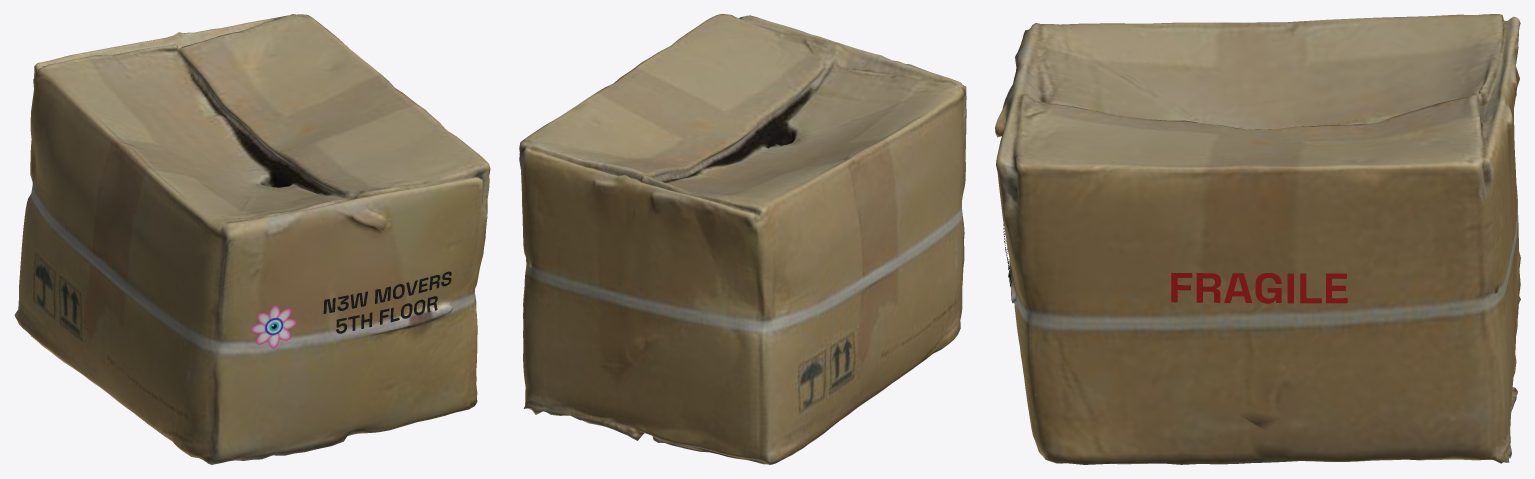
The model's file is nyb_barefoot_box.glb.
3 views of the same model, side by side, from view 1: azimuth 30°, elevation 25°; view 2: azimuth 150°, elevation 25°; view 3: azimuth 270°, elevation 25° (orthographic). The views are drawn at different scales.
Visible parts, largest first — view 1: cardboard_box_01, stk_lbl_d85b26f807.png; view 2: cardboard_box_01; view 3: cardboard_box_01, stk_lbl_10c68e312c.png.
Boxes of the visible parts, bbox=[...] form: cardboard_box_01: bbox=[14, 14, 490, 464]; stk_lbl_d85b26f807.png: bbox=[250, 271, 451, 348]; cardboard_box_01: bbox=[519, 14, 966, 464]; cardboard_box_01: bbox=[995, 14, 1520, 464]; stk_lbl_10c68e312c.png: bbox=[1171, 273, 1347, 303].
Size of the model in its own units: 0.3871 by 0.3418 by 0.5159.
3 materials, 3 textured.
